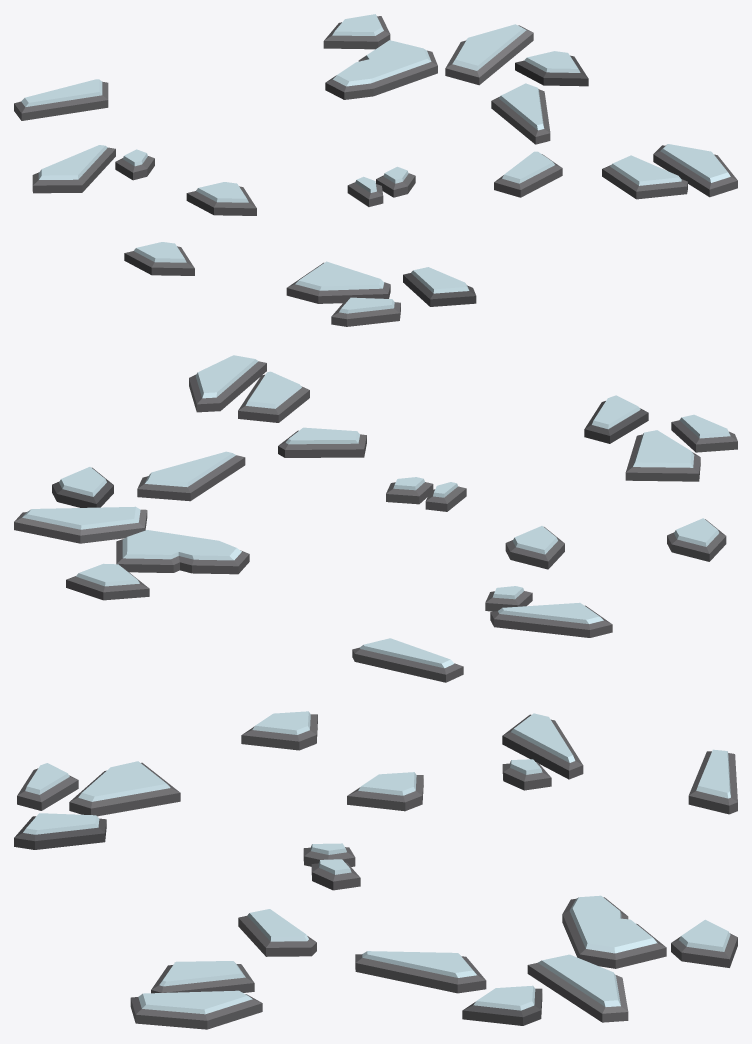
File: SM_Env_Path_Stone_03_Snow.gltf
The picture shows the model from 3 angles, top to bottom: view 1: azimuth 30°, elevation 25°; view 2: azimuth 150°, elevation 25°; view 3: azimuth 270°, elevation 25°; orthographic projection. The views are drawn at different scales.
Visible parts, largest first — view 1: SM_Env_Path_Stone_03_Snow; view 2: SM_Env_Path_Stone_03_Snow; view 3: SM_Env_Path_Stone_03_Snow.
Boxes of the visible parts, bbox=[...] form: SM_Env_Path_Stone_03_Snow: bbox=[14, 14, 737, 326]; SM_Env_Path_Stone_03_Snow: bbox=[14, 355, 737, 682]; SM_Env_Path_Stone_03_Snow: bbox=[14, 711, 737, 1029].
Bounding box in the file's own units: 2.89 × 0.0708 × 2.89.
Materials: 1 (1 with a texture image).
